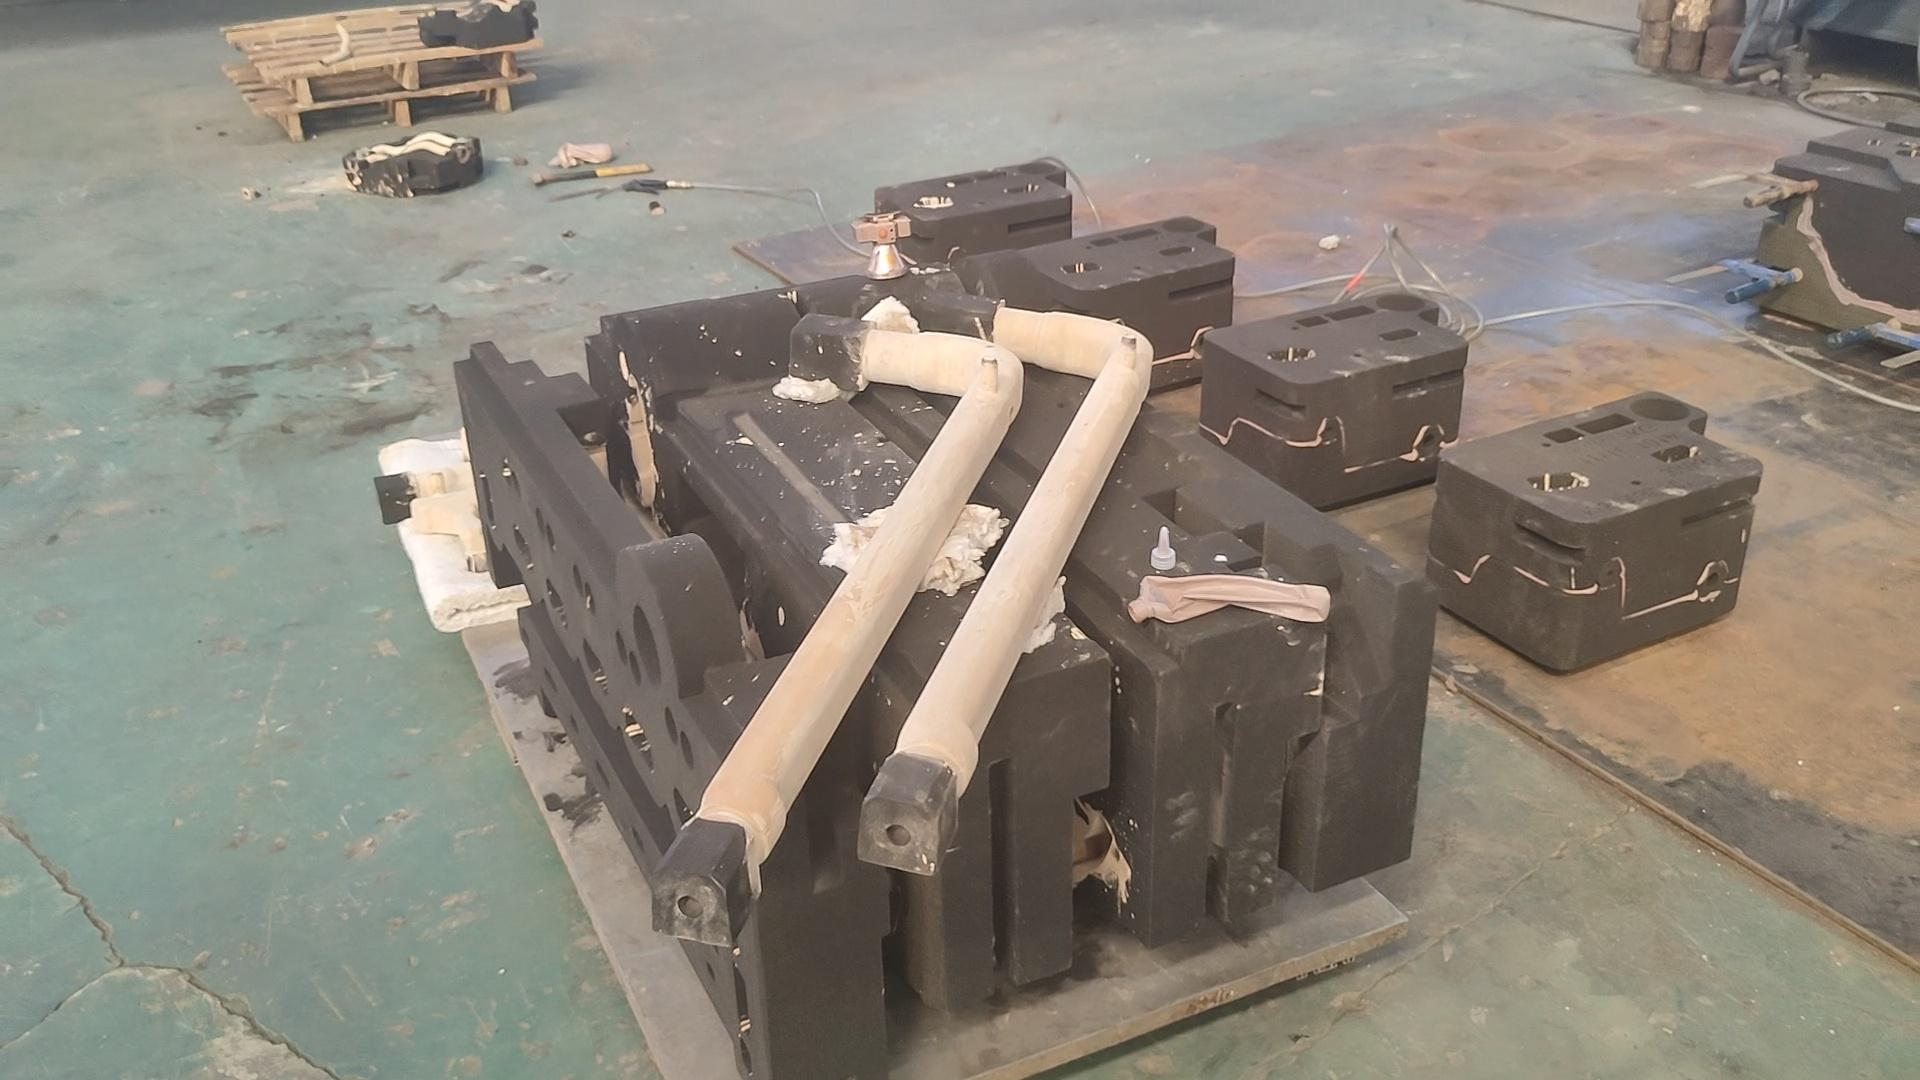pouring hole: (628, 605, 666, 690), (1630, 397, 1689, 421), (1378, 293, 1424, 311), (1163, 215, 1203, 231), (1017, 161, 1055, 173)
